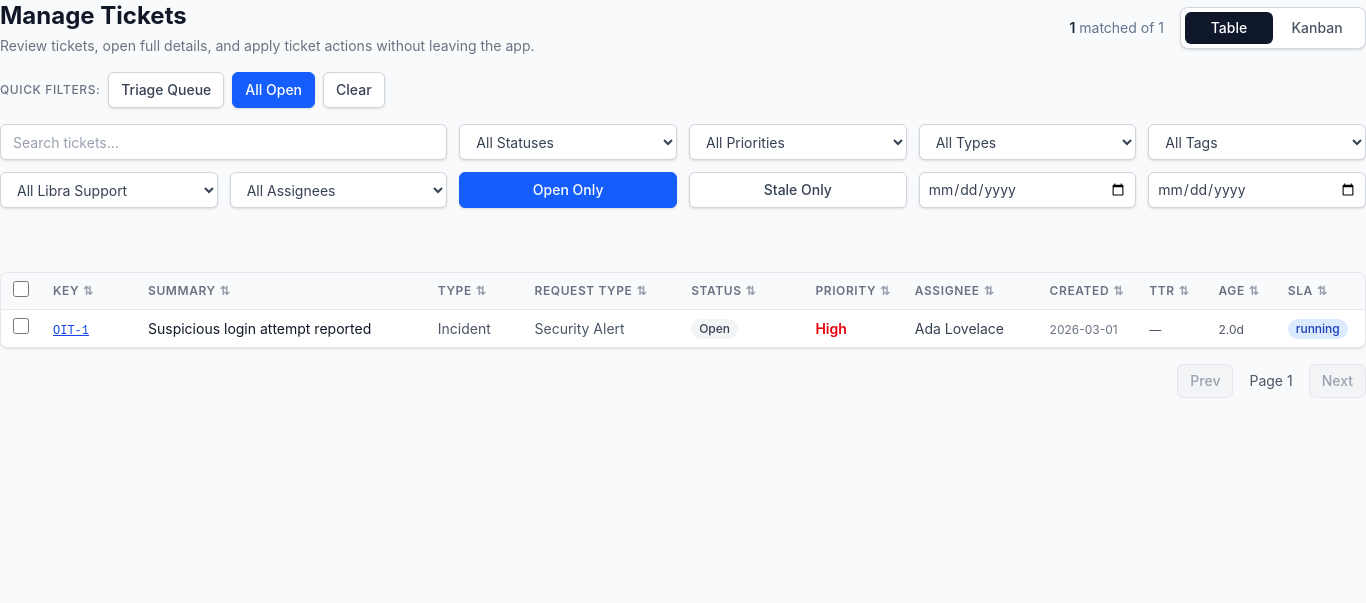
Test: ManagePage › supports a kanban view that still opens the local ticket drawer
Click the button "Kanban": (1317,28) [1273,12,1361,44]
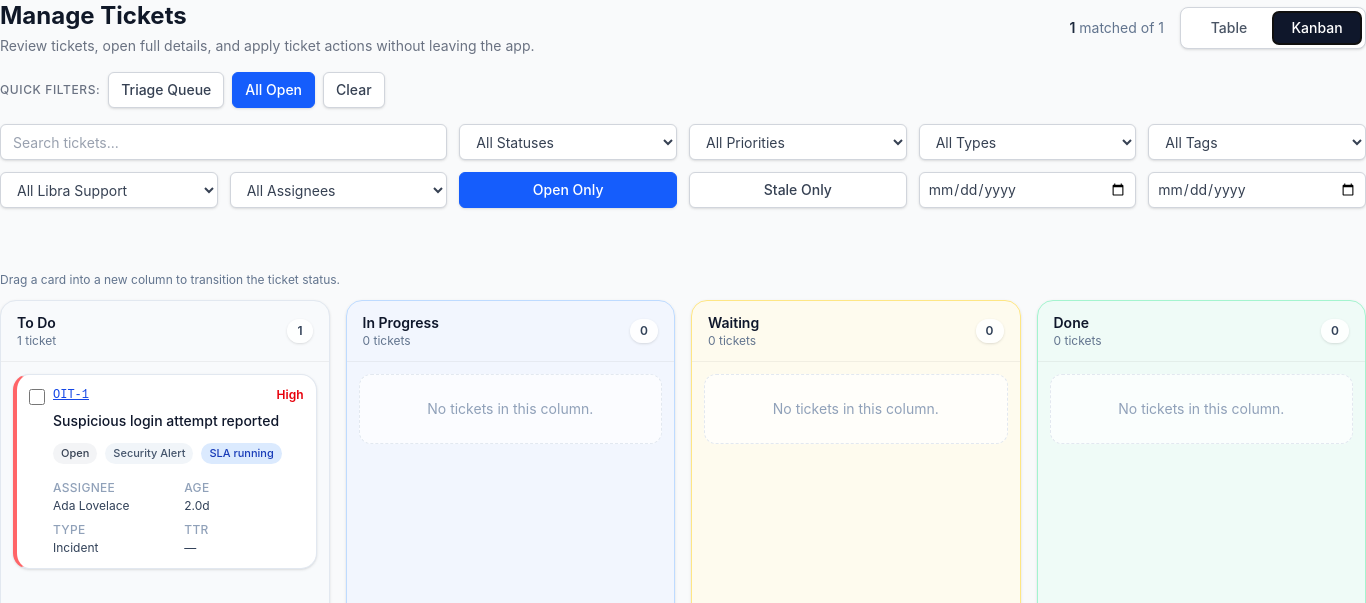
Check: the heading "To Do" is shown, box [17,313,56,333]
Click the link "OIT-1": (71,395) [53,387,89,403]
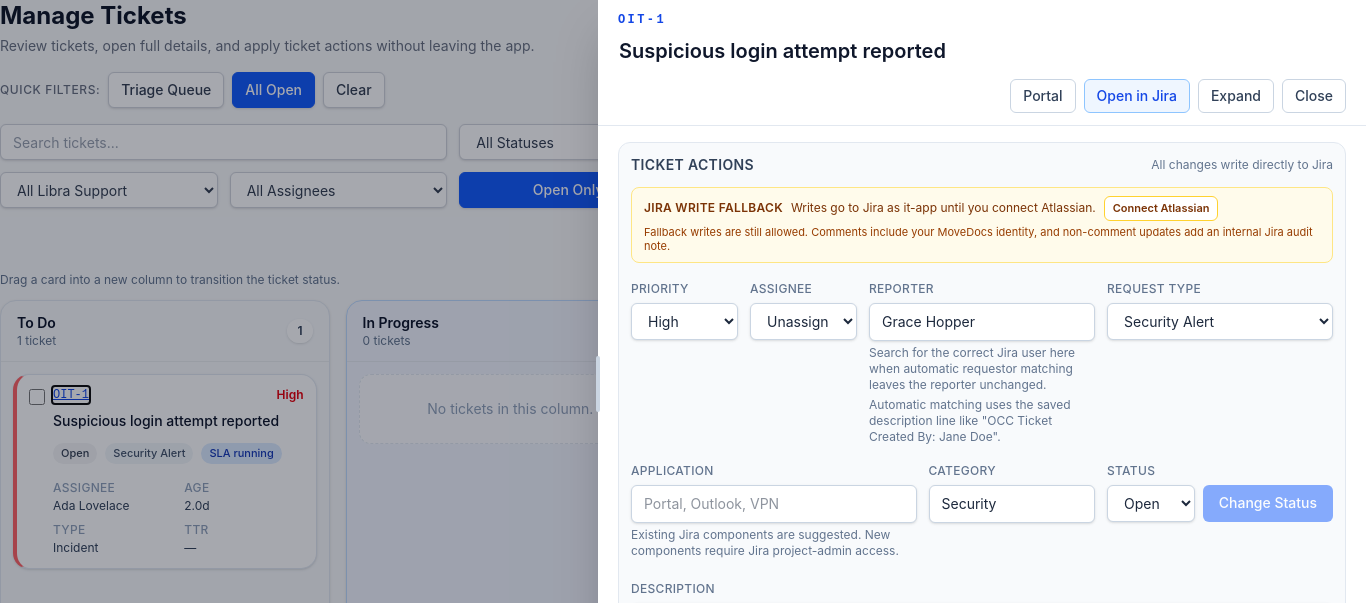
Check: the heading "Ticket Actions" is shown, box [631,155,754,175]
